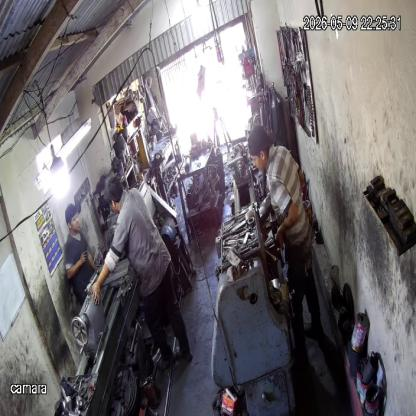sin_lentes: (69, 216, 80, 223)
